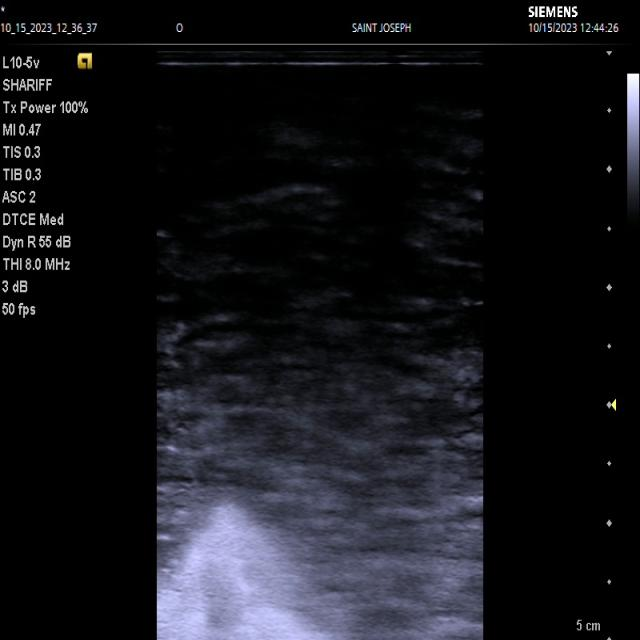tissue: (158, 506, 329, 640)
